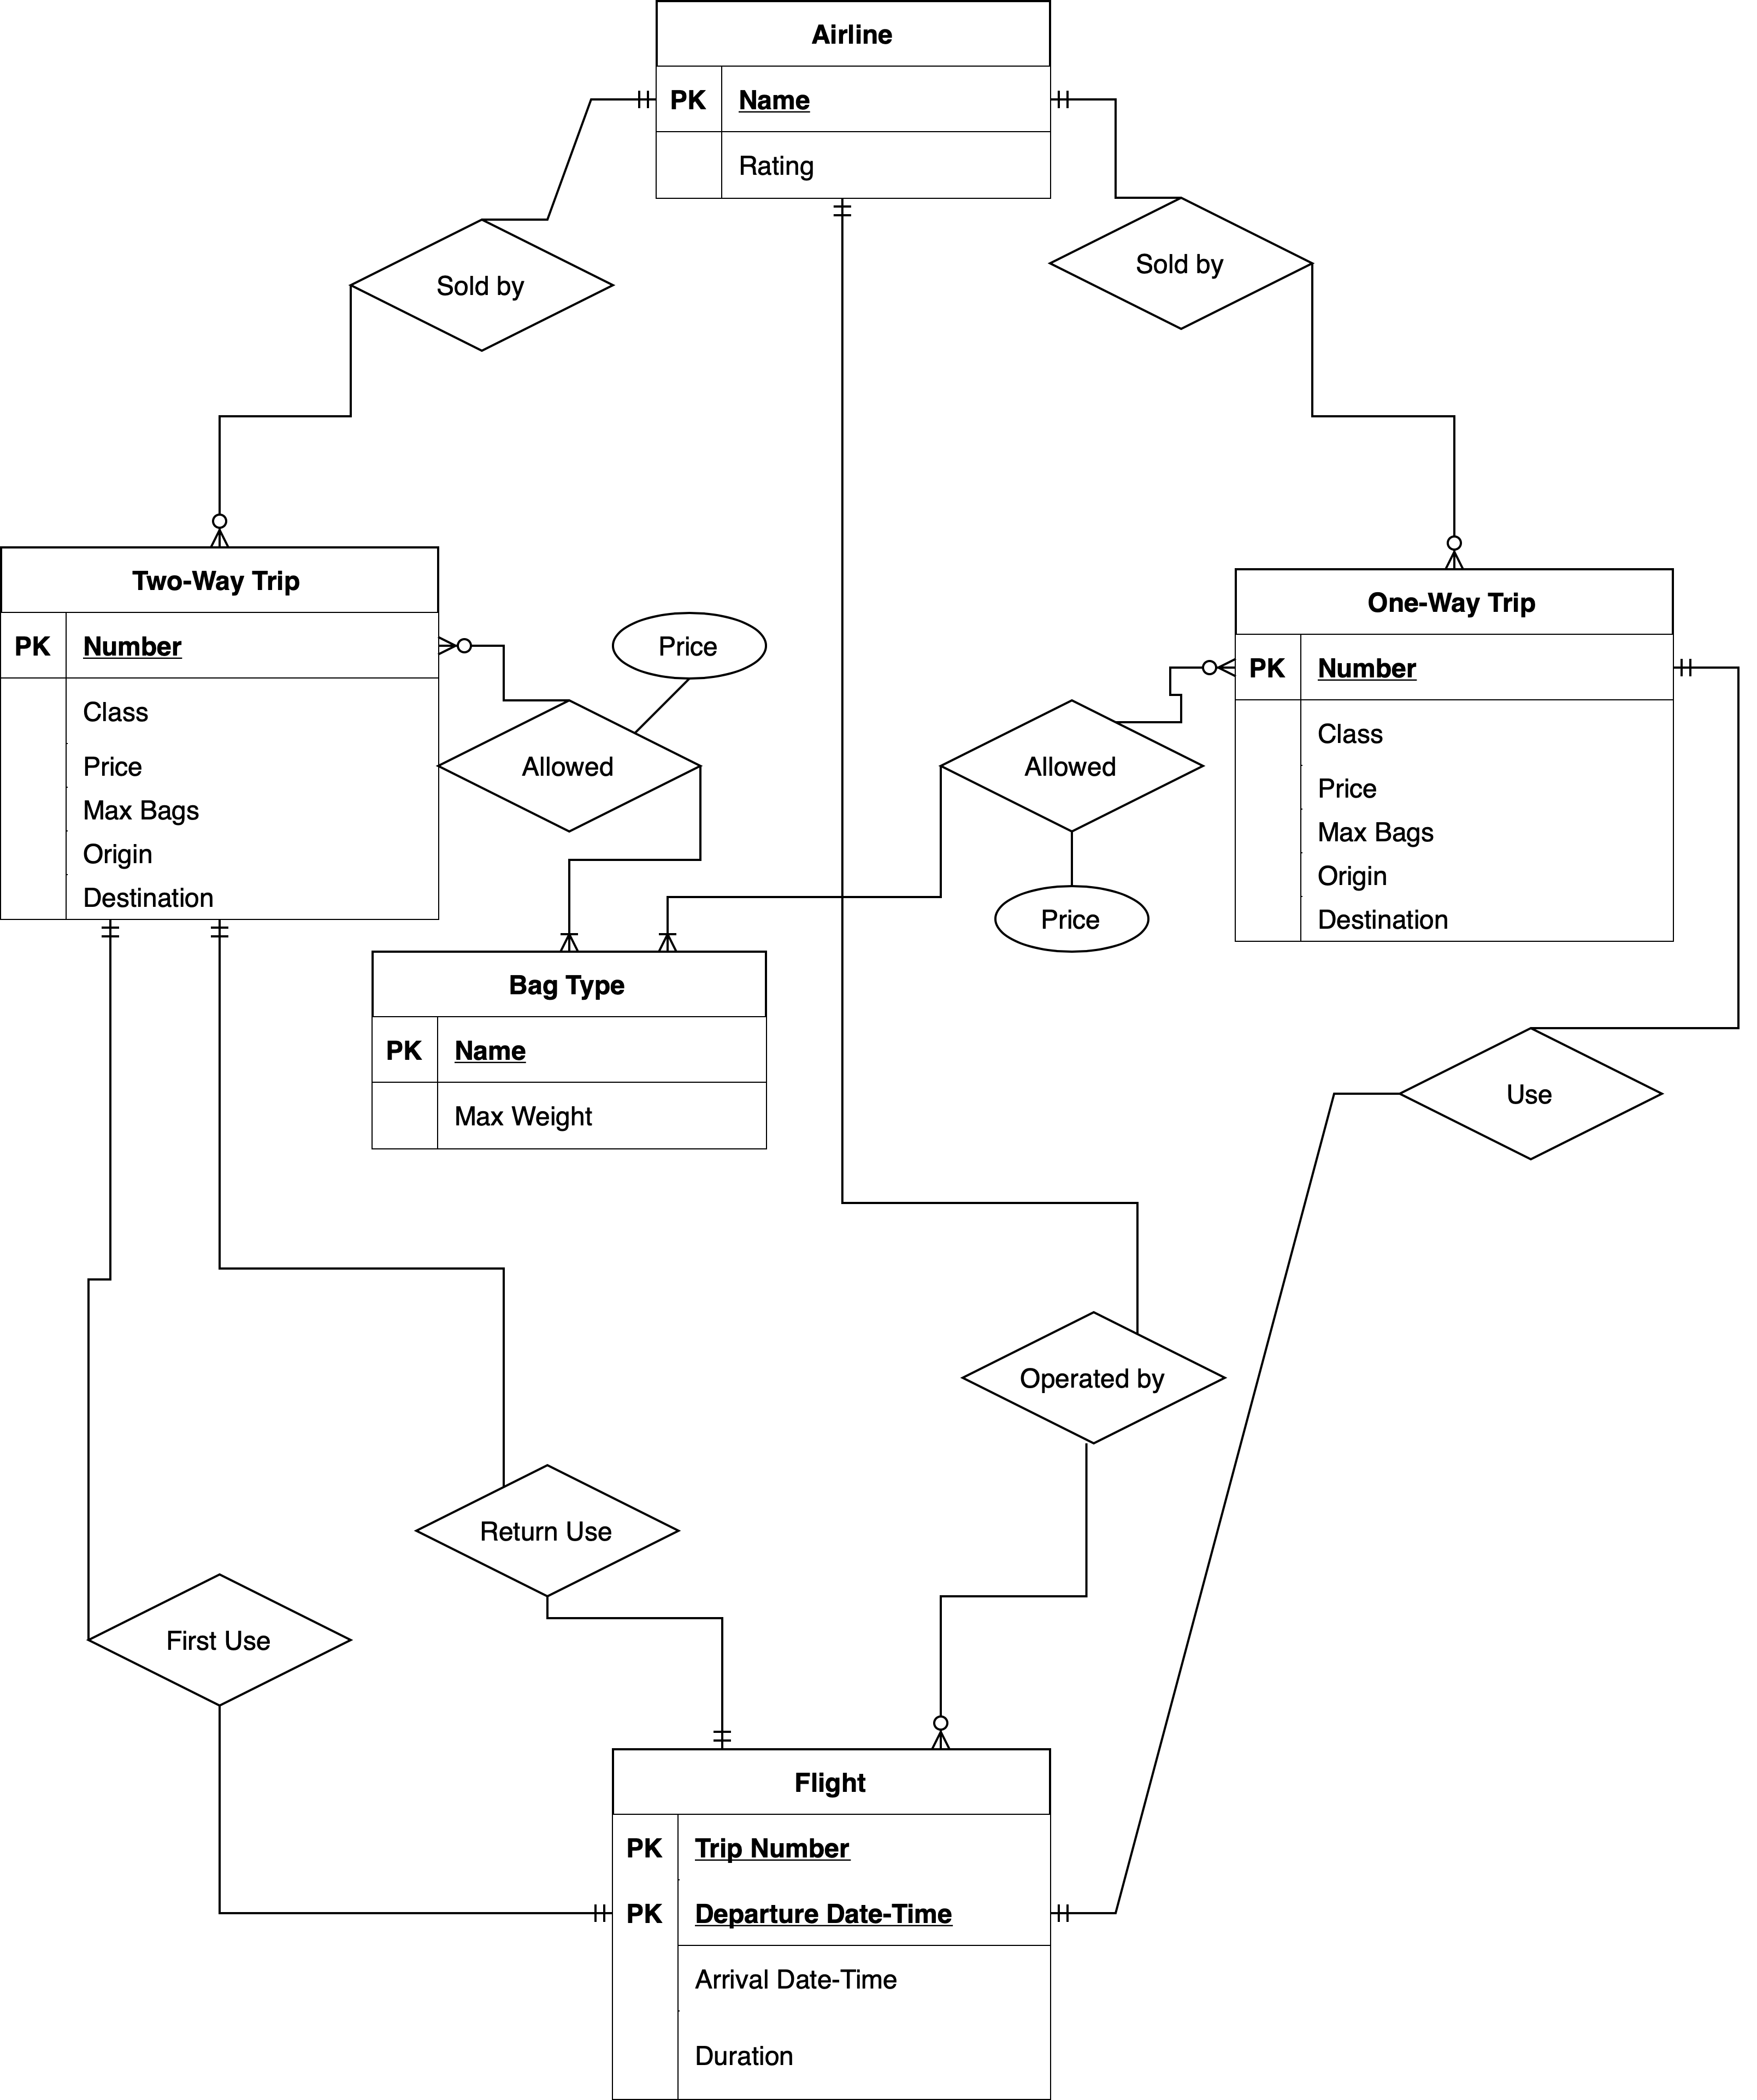entity: (1234, 569, 1675, 942), (2, 548, 436, 919), (612, 1751, 1047, 2098), (375, 951, 768, 1155), (658, 2, 1052, 199)
many: (1185, 624, 1239, 691), (911, 1702, 977, 1749), (1425, 518, 1480, 574), (646, 907, 698, 951), (546, 907, 598, 949), (202, 504, 241, 548), (441, 623, 482, 661)
one: (1049, 68, 1106, 127), (605, 68, 658, 127), (1672, 637, 1720, 689), (1054, 1878, 1087, 1948), (194, 912, 246, 956), (694, 1702, 749, 1744), (574, 1887, 612, 1940), (824, 194, 865, 239), (85, 917, 134, 956)
rel: (410, 1462, 686, 1601), (1399, 1024, 1668, 1160), (84, 1572, 358, 1702), (942, 698, 1202, 835), (960, 1313, 1230, 1442), (1049, 197, 1310, 328), (436, 698, 698, 828), (351, 222, 612, 349)
rel_attr: (995, 884, 1150, 952), (612, 616, 764, 680)
